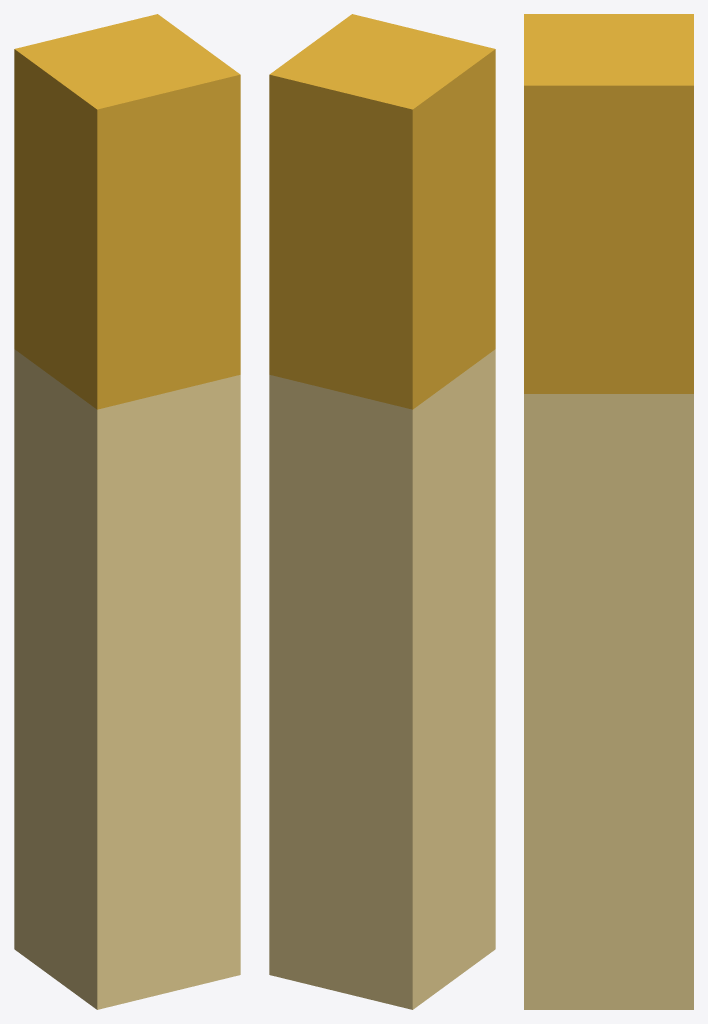
Rendered from human-5-left_hand_idle.obj.
3 views of the same model, side by side, from view 1: azimuth 30°, elevation 25°; view 2: azimuth 150°, elevation 25°; view 3: azimuth 270°, elevation 25° (orthographic). The views are drawn at different scales.
Parts seen in each view (by area): view 1: left_hand_idle; view 2: left_hand_idle; view 3: left_hand_idle.
Boxes of the visible parts, x1,y1,x2,y2 form: left_hand_idle: (14,14,240,1009); left_hand_idle: (269,14,495,1009); left_hand_idle: (524,14,693,1009).
Bounding box in the file's own units: 0.1 × 0.6 × 0.1.
Materials: 1 (1 with a texture image).
